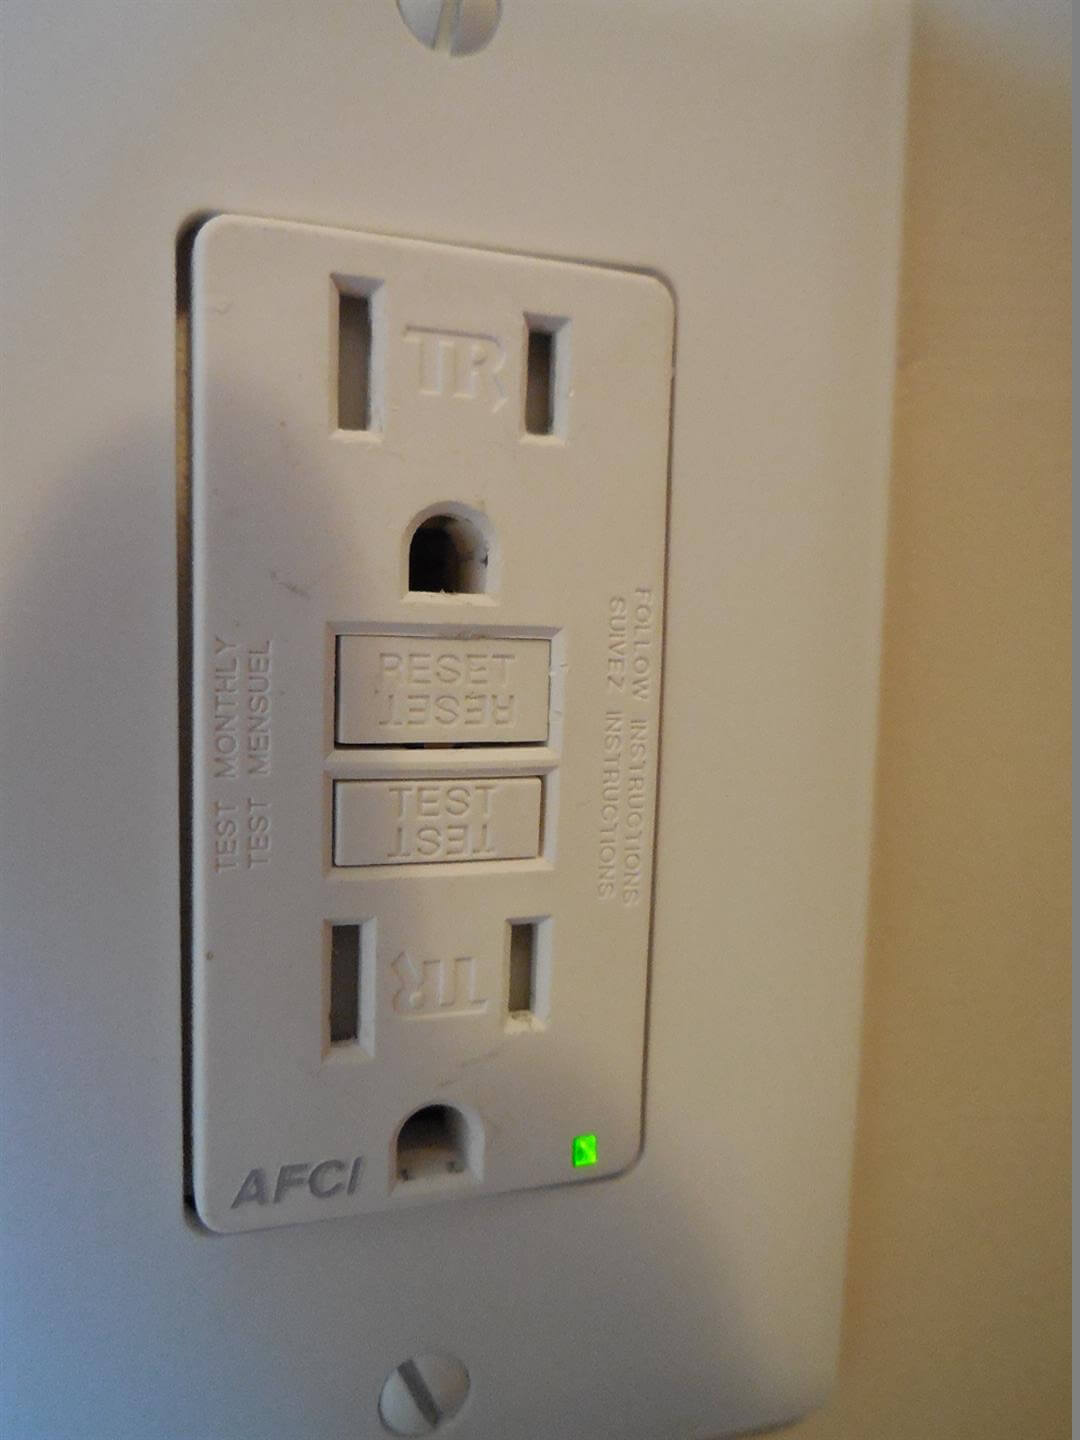outlet: (299, 240, 583, 605), (309, 900, 562, 1200)
